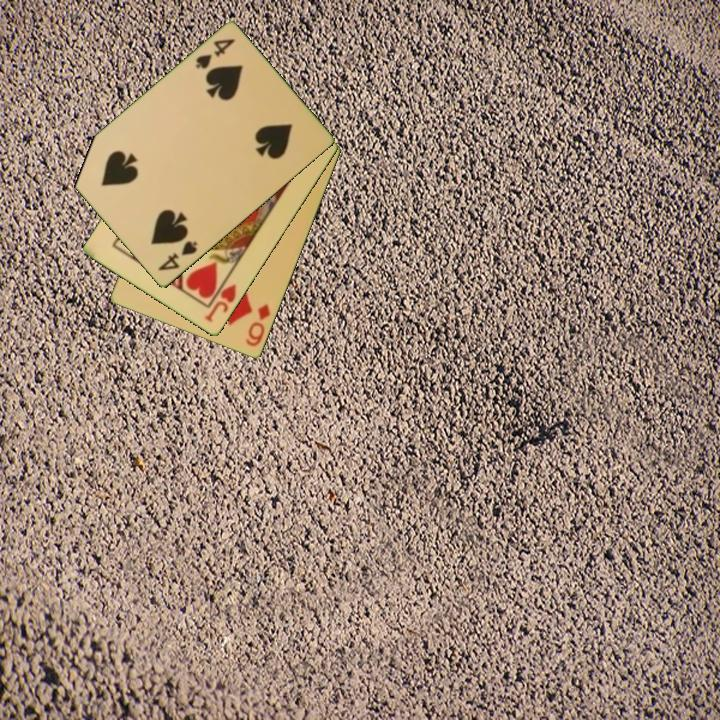4s: (191, 35, 238, 72), (154, 238, 200, 274)
6d: (242, 300, 273, 350)
Jh: (201, 281, 239, 326)
